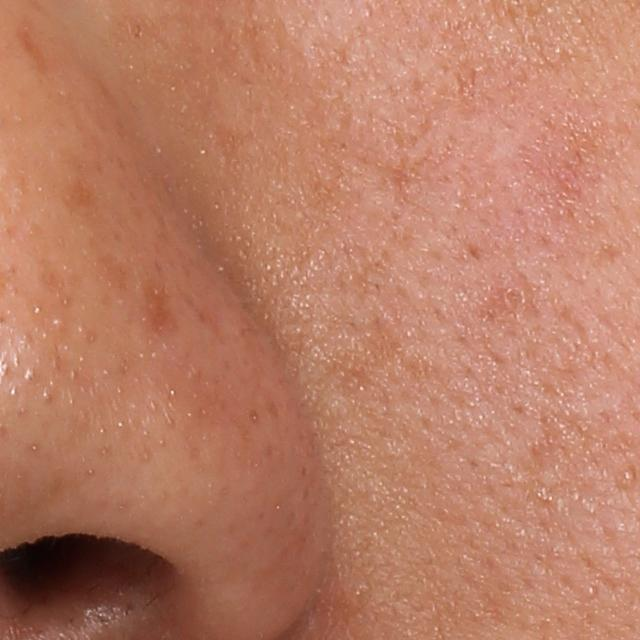melasma: (326, 322, 421, 403), (137, 271, 179, 337)
